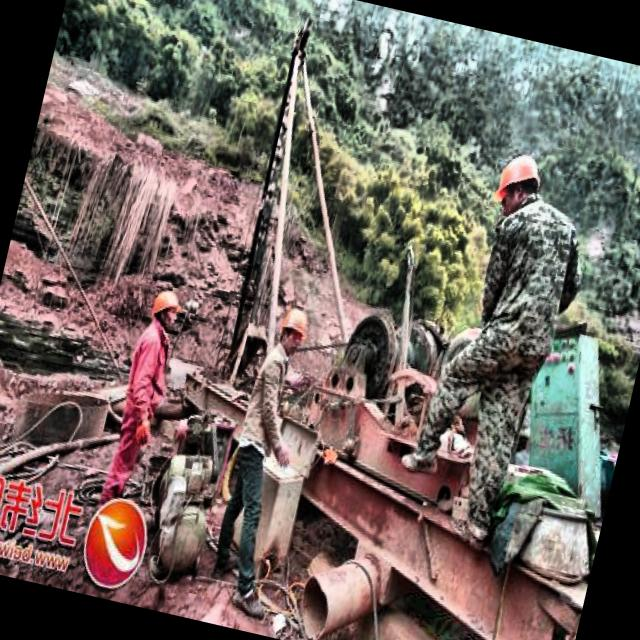helmet: (486, 144, 548, 228), (142, 281, 186, 344), (272, 302, 314, 362)
